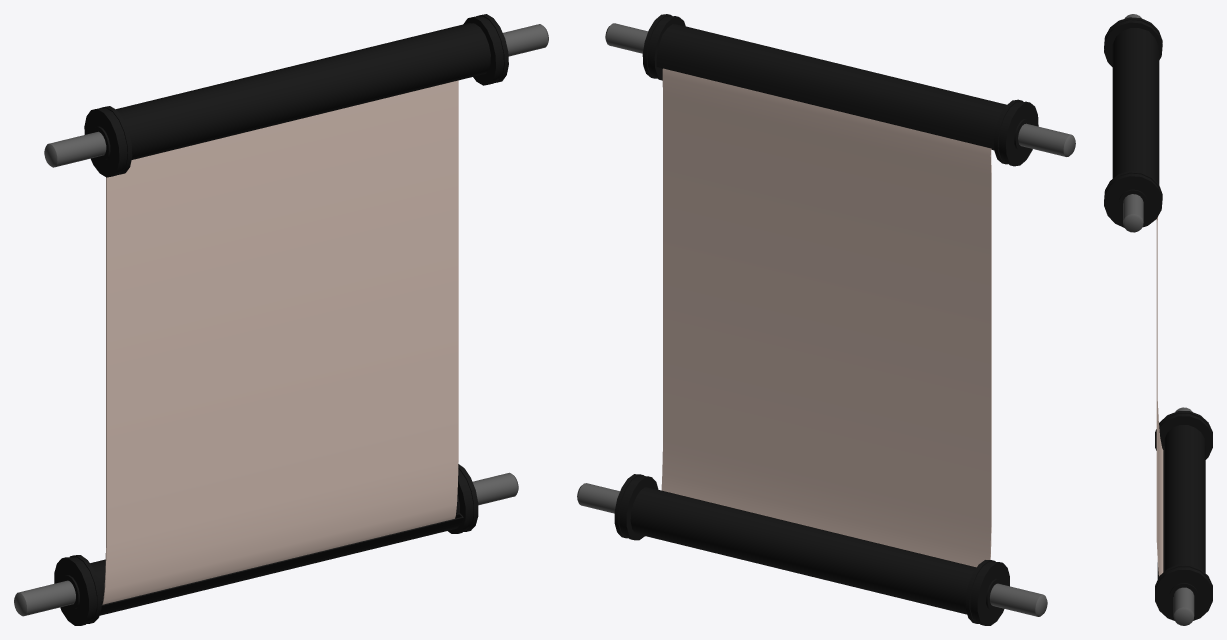
The model's file is Scroll.fbx.
3 renders of one model, left to right at view 1: azimuth 30°, elevation 25°; view 2: azimuth 150°, elevation 25°; view 3: azimuth 270°, elevation 25°, orthographic. The views are drawn at different scales.
Visible parts, largest first — view 1: paper, roll up, roll down, handle up, handle down; view 2: paper, roll down, roll up, handle up, handle down; view 3: roll up, roll down, paper, handle down, handle up.
Part boxes in pixels (x1,y1,x2,y2): paper: (102, 80, 458, 604); roll up: (84, 14, 508, 177); roll down: (54, 464, 478, 625); handle up: (44, 24, 548, 167); handle down: (14, 472, 518, 616); paper: (661, 68, 991, 567); roll down: (614, 474, 1009, 625); roll up: (642, 14, 1038, 166); handle up: (605, 23, 1075, 156); handle down: (577, 483, 1047, 616); roll up: (1104, 17, 1162, 227); roll down: (1155, 411, 1212, 620); paper: (1156, 217, 1163, 576); handle down: (1173, 407, 1194, 625); handle up: (1123, 14, 1143, 232).
Bounding box in the file's own units: 1.01 × 0.2309 × 1.04.
